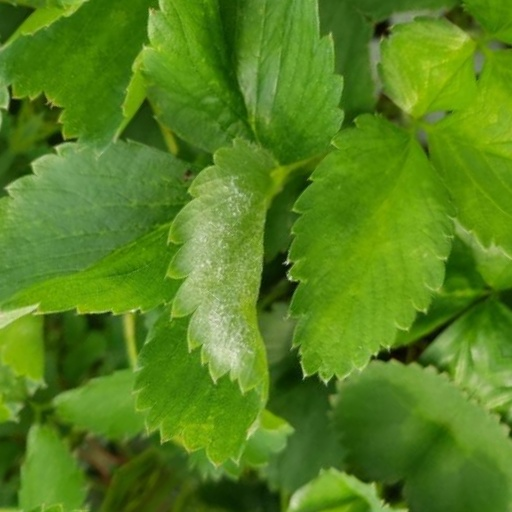Powdery Mildew Leaf: (159, 48, 376, 346)
